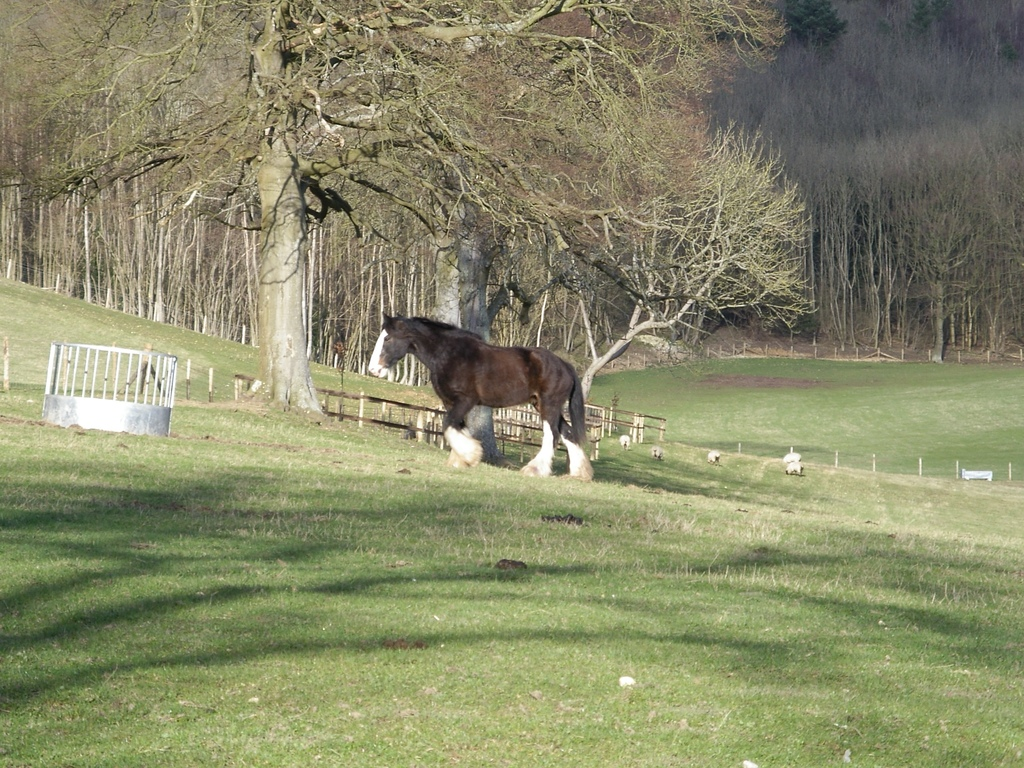horse: (366, 311, 597, 483)
